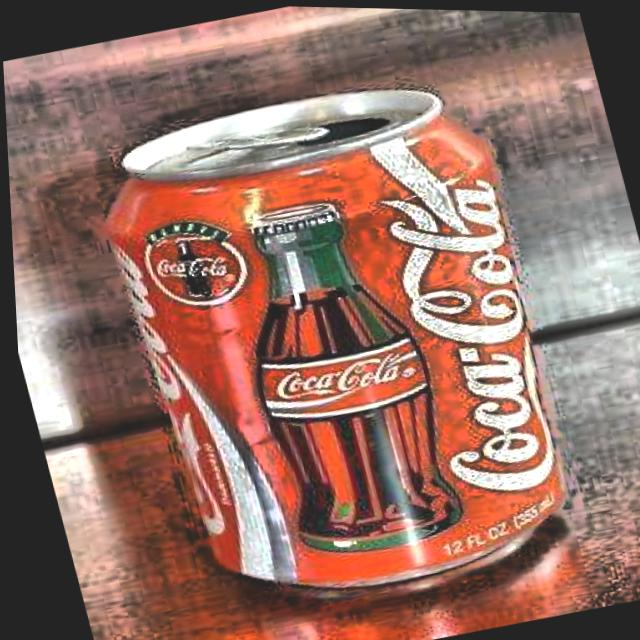Cans: (64, 33, 618, 629)
